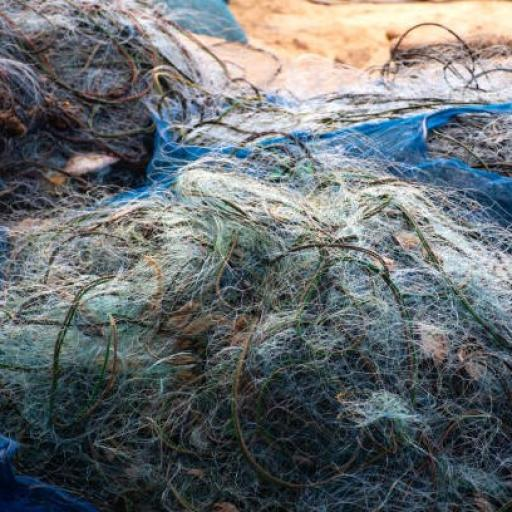net: (0, 154, 512, 512), (1, 1, 233, 213), (191, 28, 510, 155)
